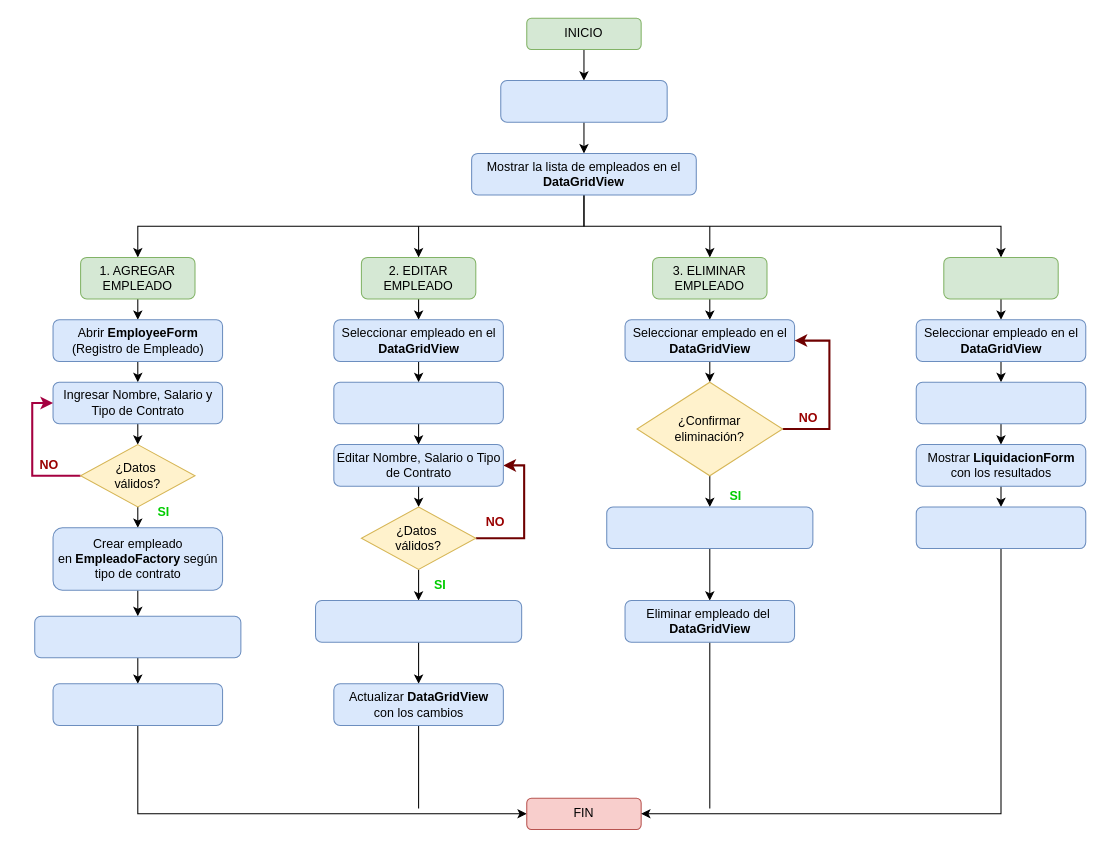
This 1103x848 diagram has some shape labels left out. Each missing label, with the centre of its shape:
"4. LIQUIDACIÓN EMPLEADO" goes at point 1000,277.
"Actualizar DataGridView con el nuevo empleado" goes at point 137,704.
"Actualizar empleado en Repositorio (EmpleadoRepository)" goes at point 418,621.
"Calcular liquidación usando LiquidacionService" goes at point 1000,402.
"Cargar datos en EmployeeForm" goes at point 418,402.
"Cerrar ventana de liquidación" goes at point 1000,527.
"Eliminar empleado de Repositorio (EmpleadoRepository)" goes at point 709,527.
"Guardar empleado en Repositorio (EmpleadoRepository)" goes at point 137,636.
"Pantalla de Inicio (MainDashboard)" goes at point 583,101.
